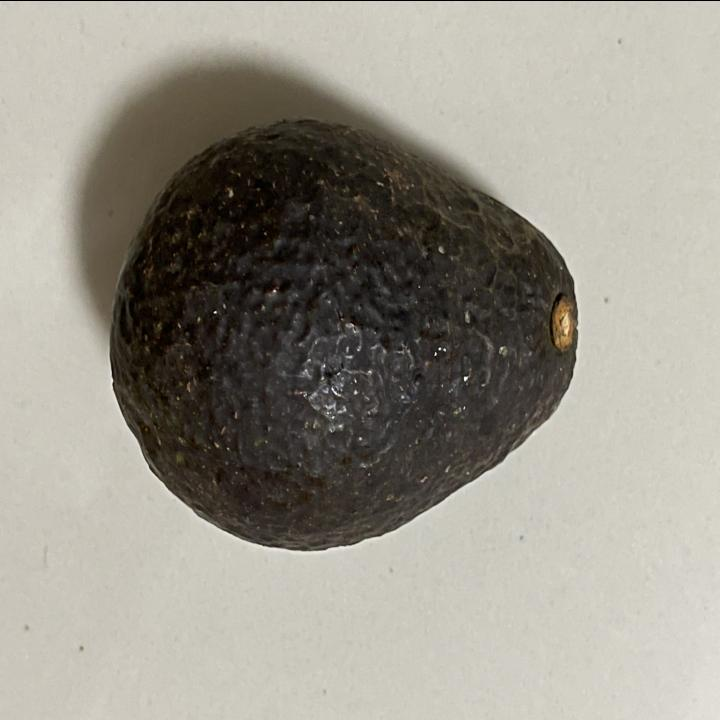Level1: (95, 100, 595, 575)
